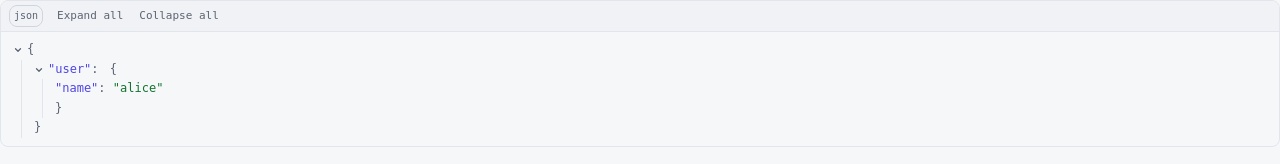
JsonTree › renders nested values expanded by default and collapses on click
Expected: the text "\"alice\"" is shown, [113,81,163,95]
Clicking the `user` node collapses it, hiding its children.
Click the button "\"user\": {" at [76, 69], box [34,62,117,76]
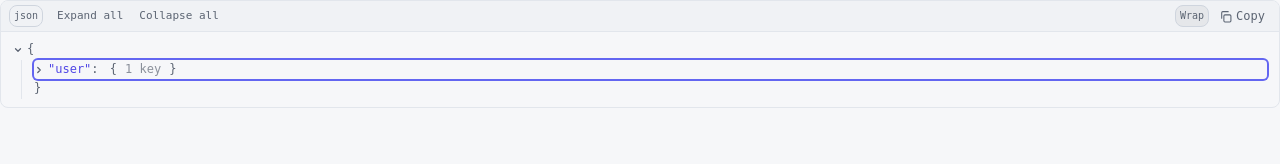
Expected: the text "alice" is gone
Clicking again re-expands.
Click the button "\"user\": { 1 key }" at [70, 69], box [34,60,1267,79]
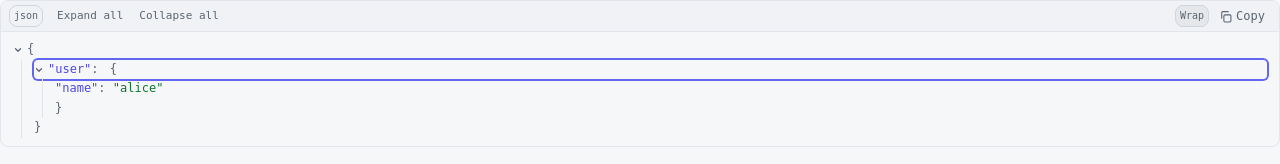
Expected: the text "\"alice\"" is shown, [113,81,163,95]
